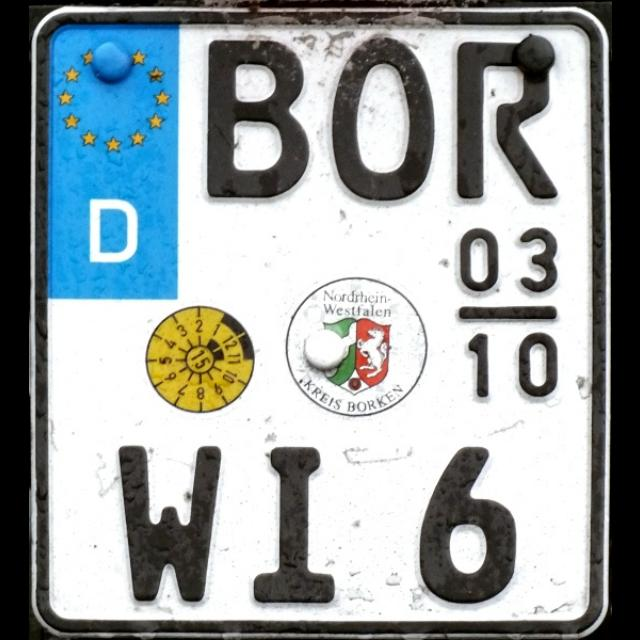d_license_plate: (39, 17, 595, 628)
